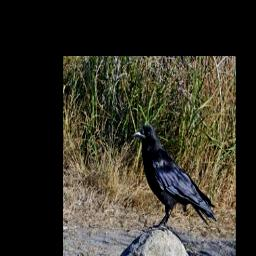Crow: (132, 120, 218, 236)
